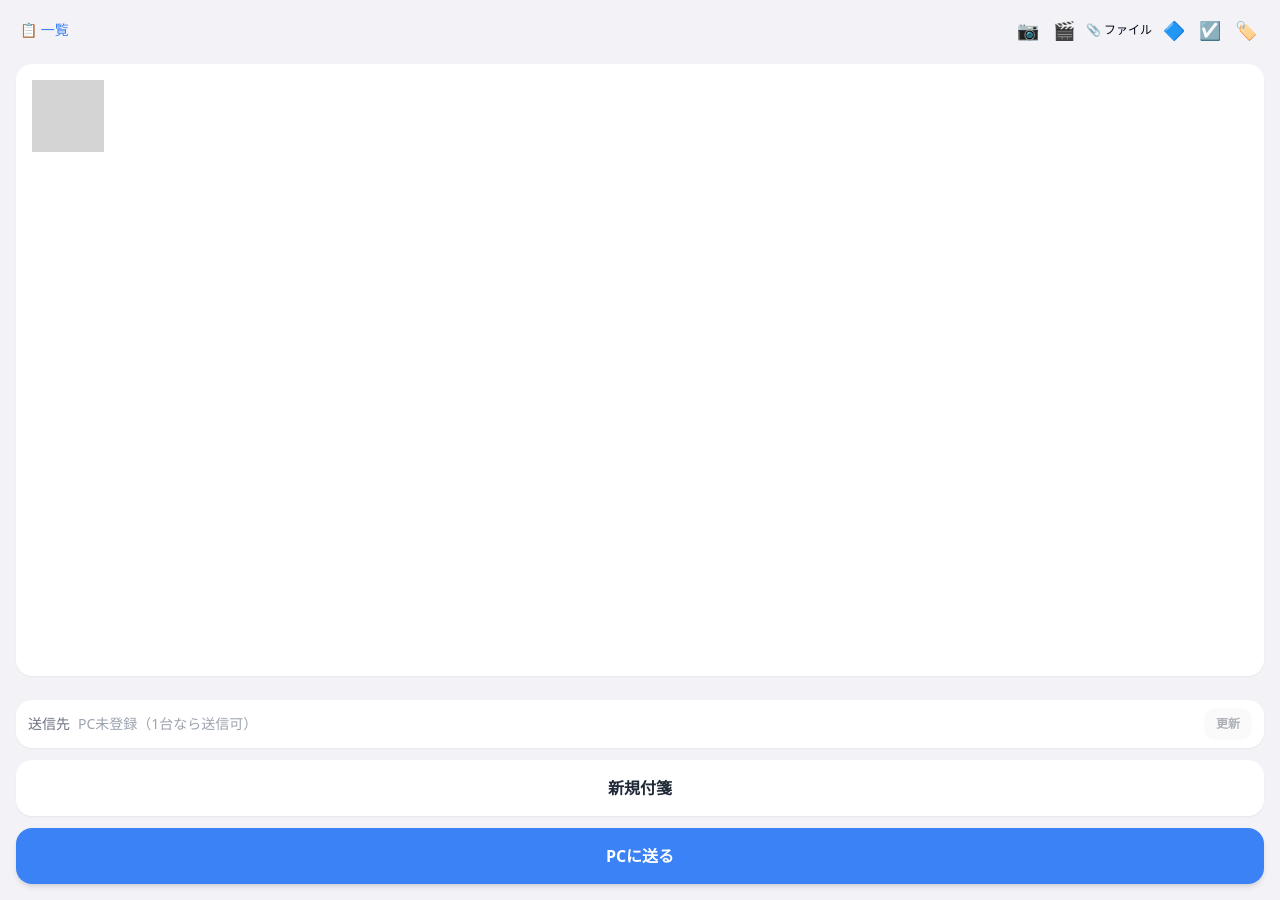
Test: WriteStep loss prevention › 本文画像をタップすると全画面プレビューを開き、背景タップで閉じる
Click the text box: (640, 370) [16,64,1264,676]
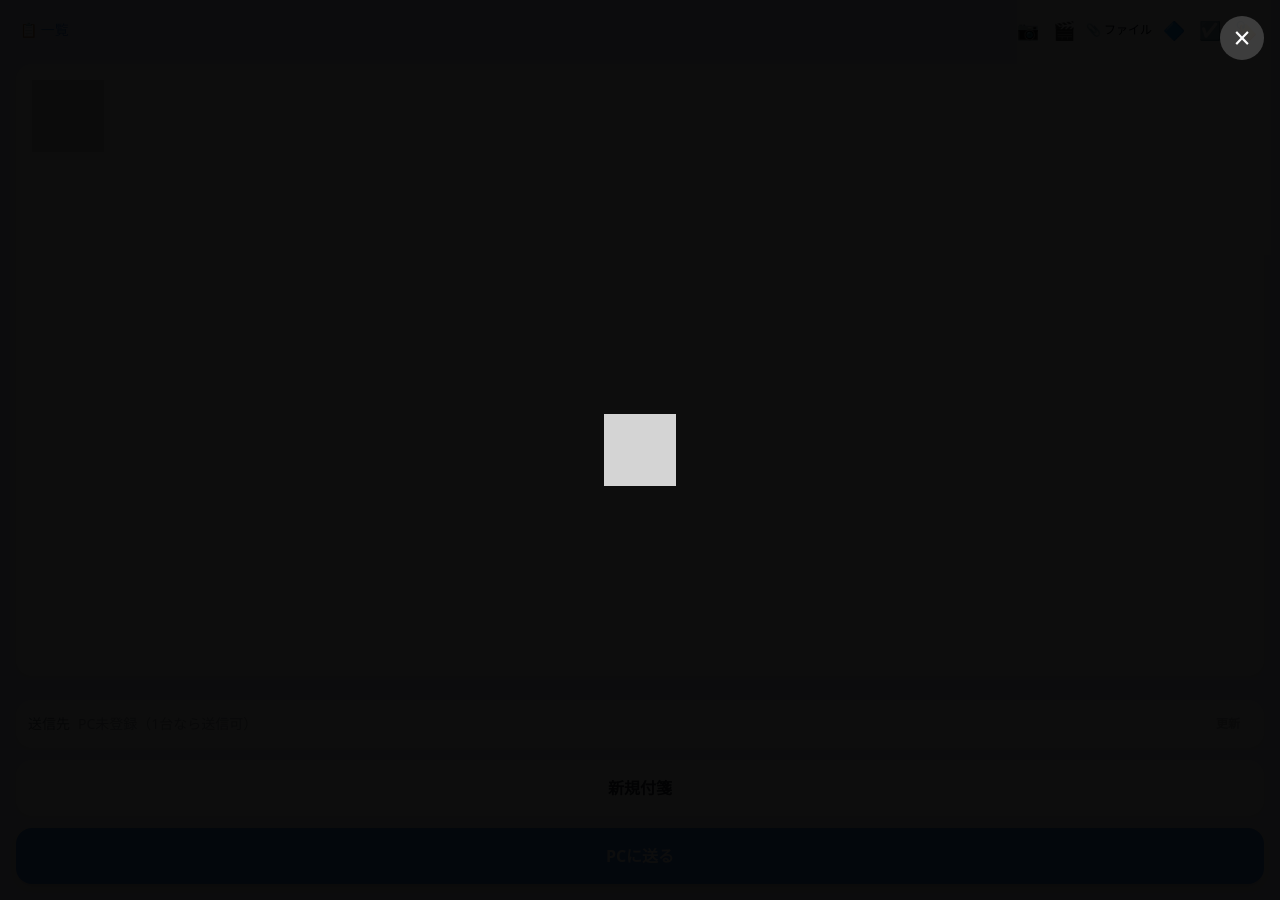
Click the dialog named "画像プレビュー": (77, 450) [0,0,1279,899]
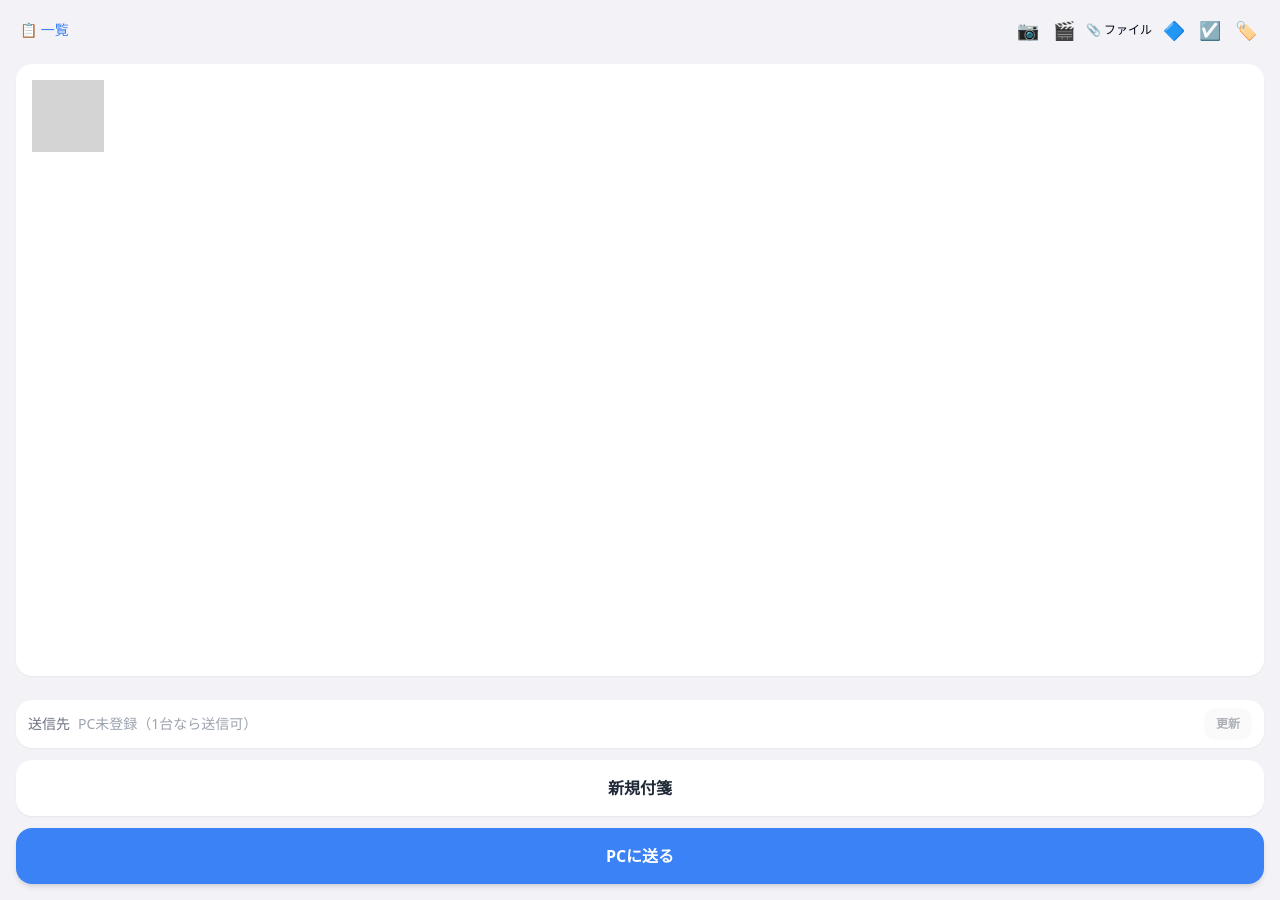
Check: the dialog "画像プレビュー" is gone
